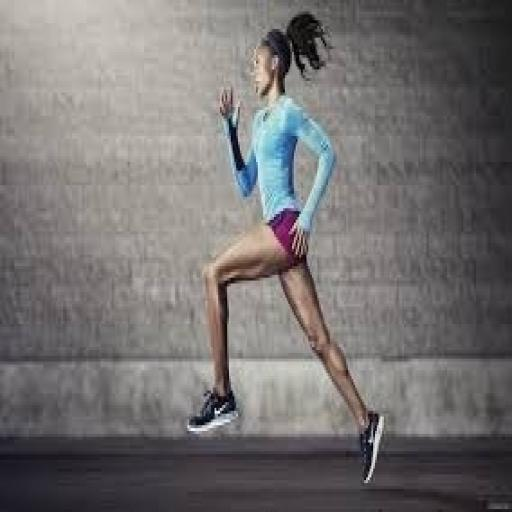running: (184, 9, 387, 489)
